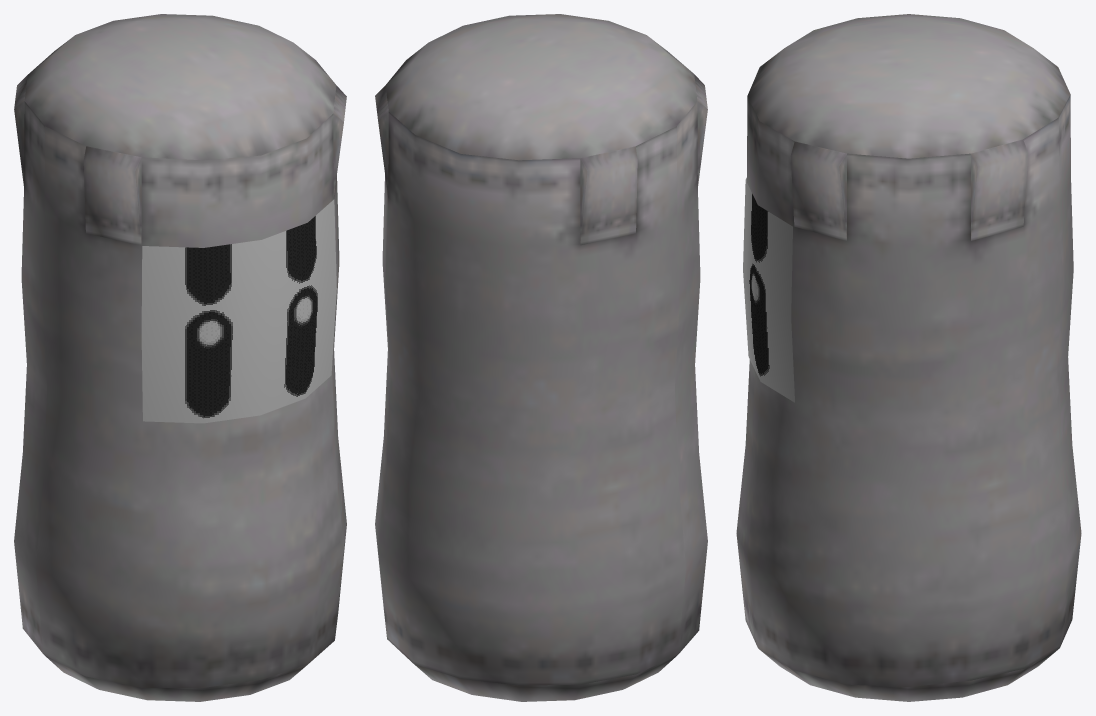
The model's file is ItmSandbag.obj.
3 views of the same model, side by side, from view 1: azimuth 30°, elevation 25°; view 2: azimuth 150°, elevation 25°; view 3: azimuth 270°, elevation 25° (orthographic).
Parts seen in each view (by area): view 1: polygon1, polygon0; view 2: polygon1; view 3: polygon1, polygon0.
Part boxes in pixels (x1,y1,x2,y2): polygon1: [14, 14, 346, 701]; polygon0: [141, 199, 336, 423]; polygon1: [375, 14, 707, 701]; polygon1: [736, 14, 1081, 701]; polygon0: [743, 177, 794, 402].
Size of the model in its own units: 8.94 by 17.9 by 9.21.
2 materials, 2 textured.
